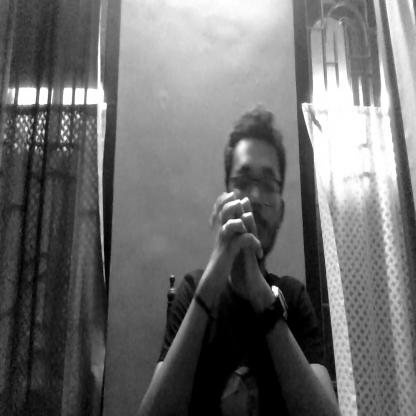Normal: (223, 108, 290, 263)
